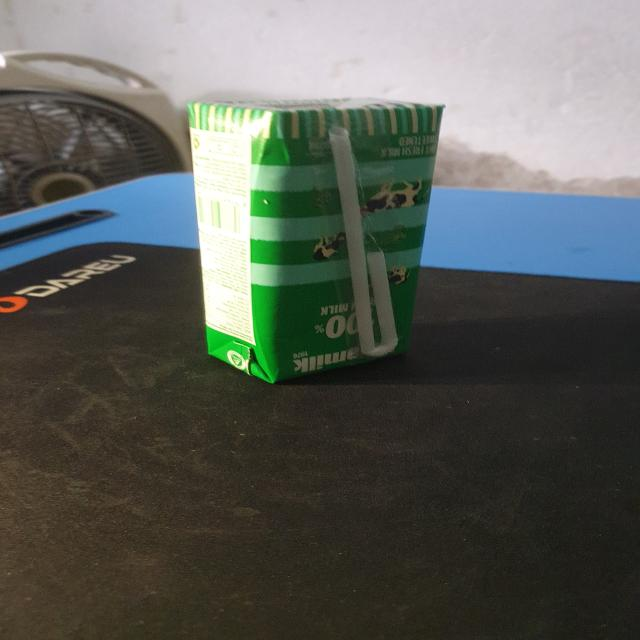Vina: (182, 93, 453, 388)
